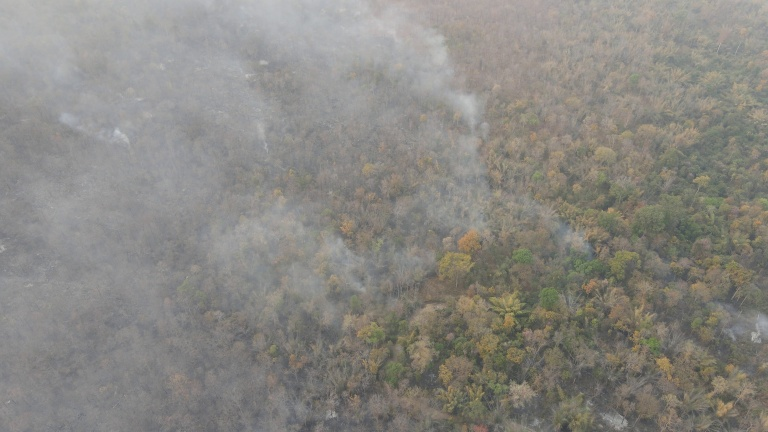smoke: (1, 1, 506, 429), (517, 192, 594, 257), (695, 291, 768, 351)
